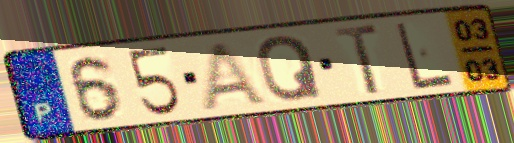5: (123, 43, 183, 119)
6: (67, 53, 126, 123)
A: (198, 39, 272, 111)
L: (392, 20, 457, 93)
Q: (255, 33, 327, 104)
T: (331, 22, 384, 98)
